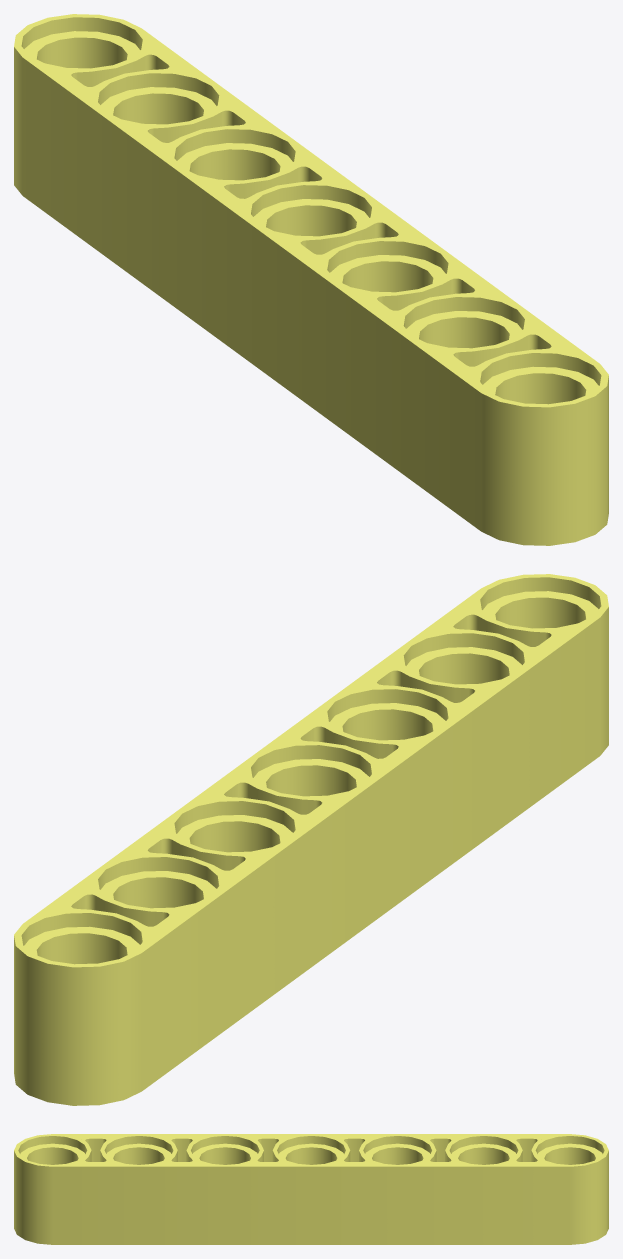
3 views of the same model, one above another, from view 1: azimuth 30°, elevation 25°; view 2: azimuth 150°, elevation 25°; view 3: azimuth 270°, elevation 25° (orthographic). The views are drawn at different scales.
Parts seen in each view (by area): view 1: 32524.dat; view 2: 32524.dat; view 3: 32524.dat.
Boxes of the visible parts, x1,y1,x2,y2 form: 32524.dat: [14, 14, 608, 545]; 32524.dat: [14, 574, 608, 1105]; 32524.dat: [14, 1134, 608, 1244].
Size of the model in its own units: 0.0072 by 0.008 by 0.0552.
